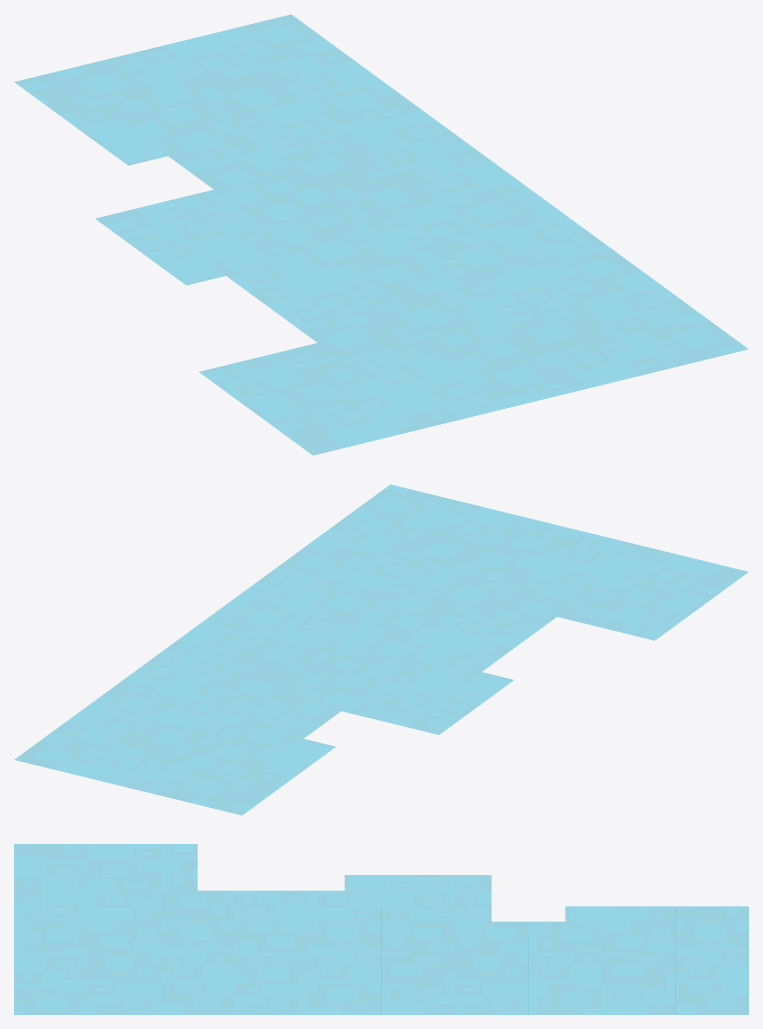
The model's file is swamp-diorama-water.gltf.
3 views of the same model, one above another, from view 1: azimuth 30°, elevation 25°; view 2: azimuth 150°, elevation 25°; view 3: azimuth 270°, elevation 25° (orthographic). The views are drawn at different scales.
Visible parts, largest first — view 1: swamp-water-MERGED; view 2: swamp-water-MERGED; view 3: swamp-water-MERGED.
Boxes of the visible parts, bbox=[...] form: swamp-water-MERGED: bbox=[15, 14, 747, 455]; swamp-water-MERGED: bbox=[14, 484, 747, 815]; swamp-water-MERGED: bbox=[14, 844, 748, 1014].
Bounding box in the file's own units: 8.8 × 0 × 16.
Materials: 1 (1 with a texture image).
